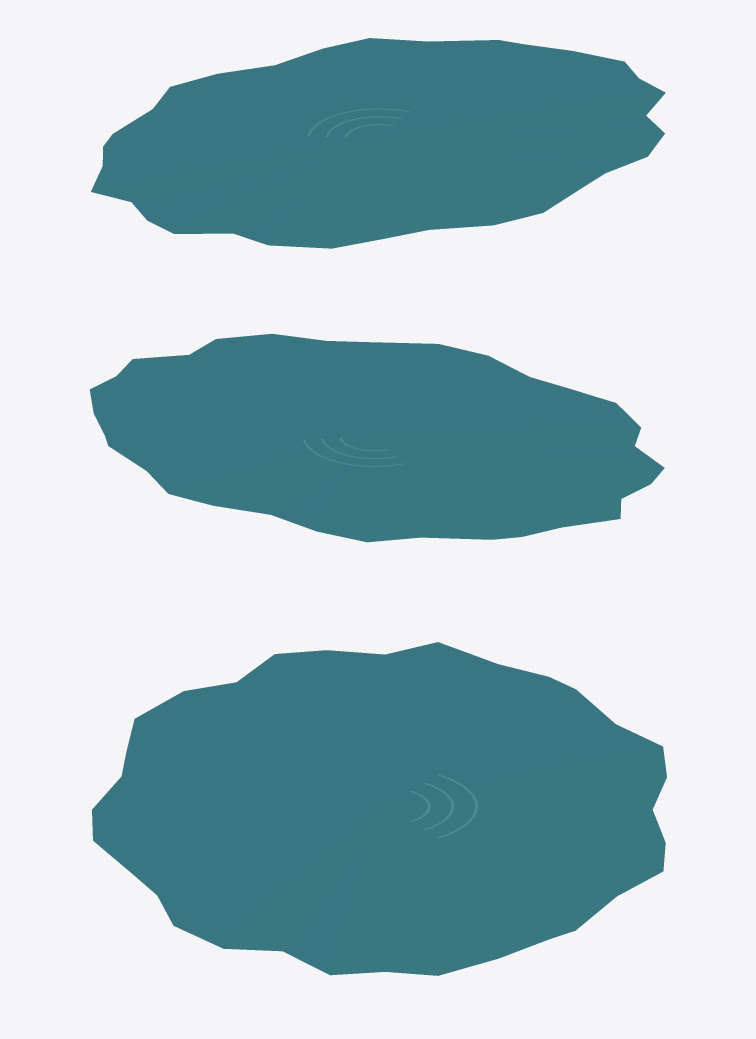
Rendered from world_lake.glb.
3 views of the same model, one above another, from view 1: azimuth 30°, elevation 25°; view 2: azimuth 150°, elevation 25°; view 3: azimuth 270°, elevation 25° (orthographic). The views are drawn at different scales.
Parts seen in each view (by area): view 1: lake_surface; view 2: lake_surface; view 3: lake_surface.
Part boxes in pixels (x1,y1,x2,y2): lake_surface: (91, 38, 665, 248); lake_surface: (89, 333, 664, 542); lake_surface: (92, 642, 666, 975).
Bounding box in the file's own units: 4.22 × 0.037 × 3.07.
